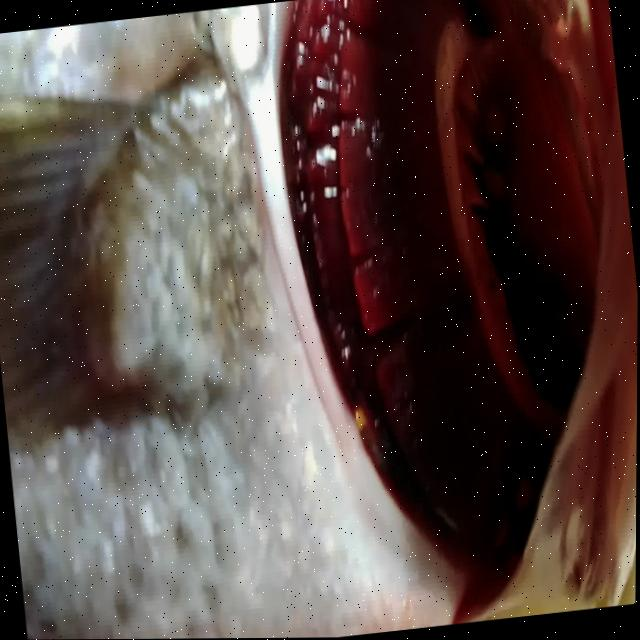Fresh: (244, 0, 640, 619)
